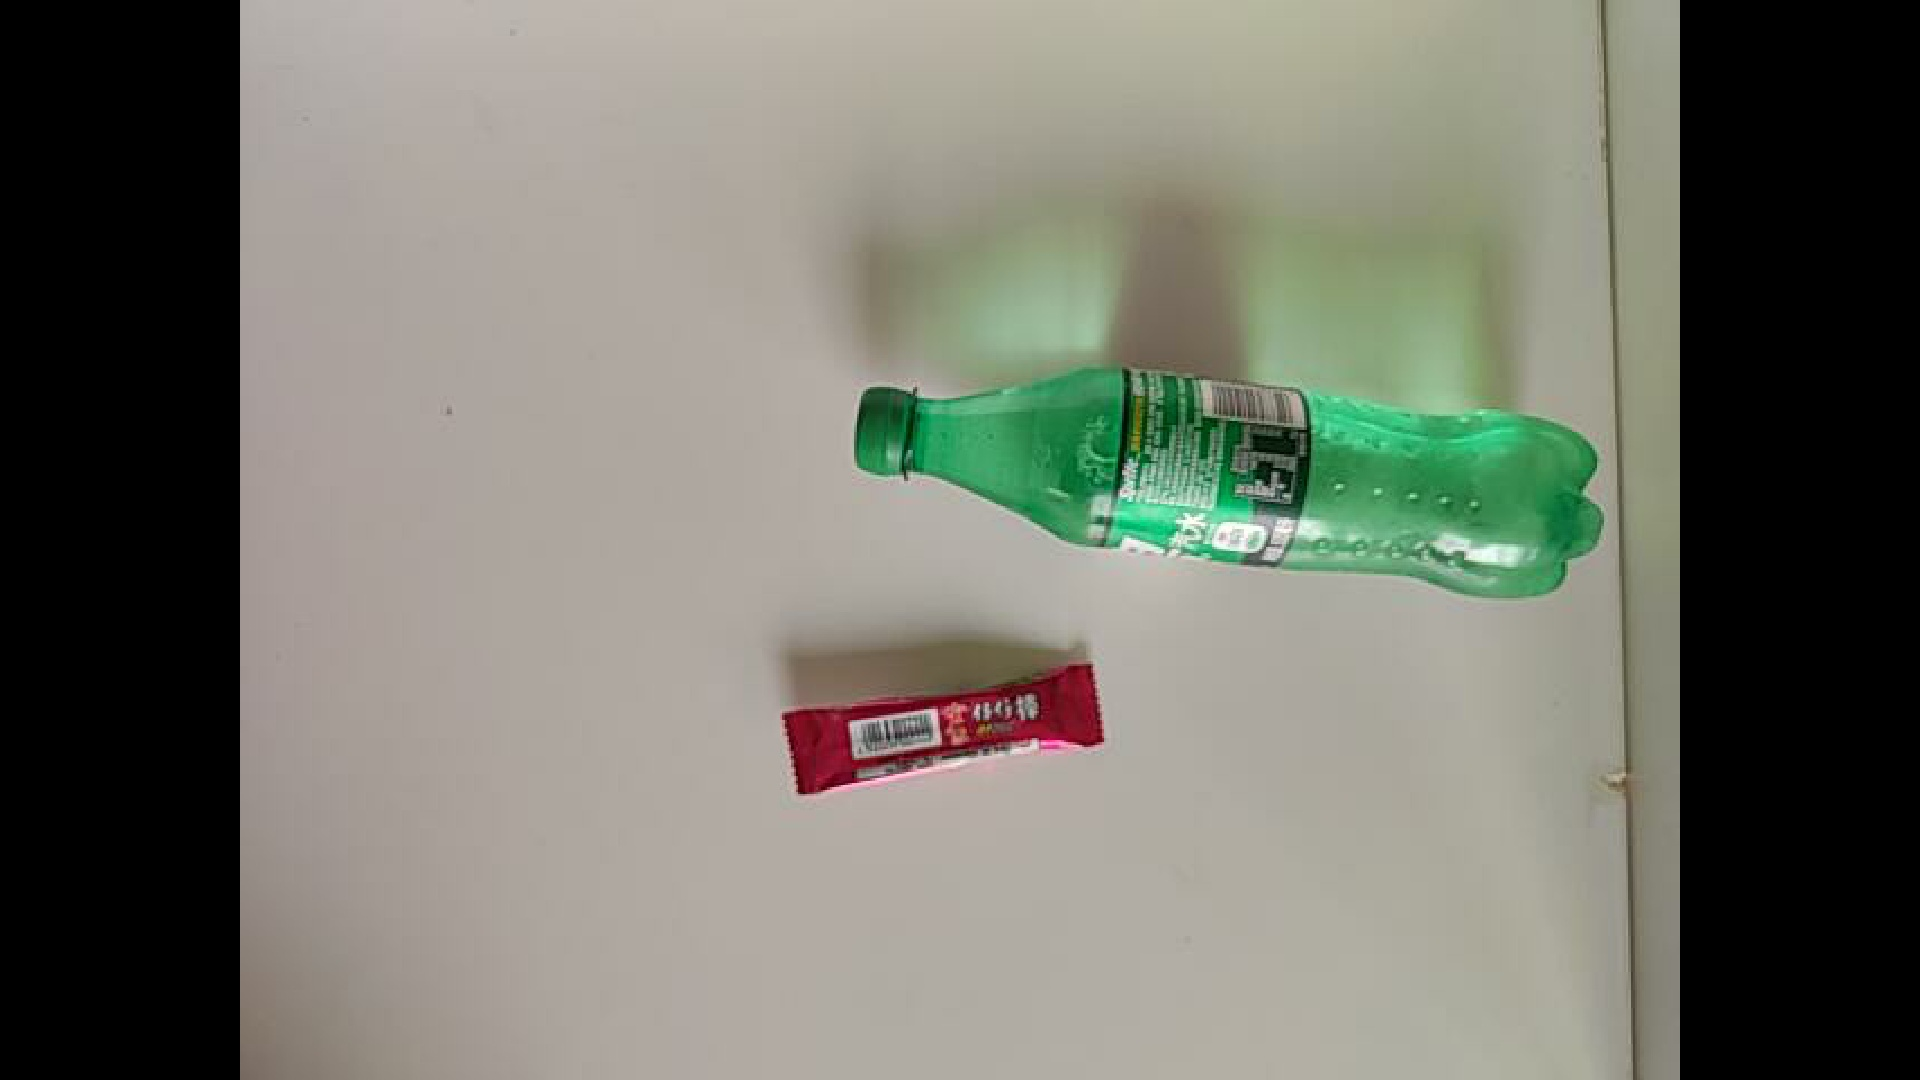sprite: (823, 327, 1618, 574)
sugar: (778, 680, 1118, 799)
